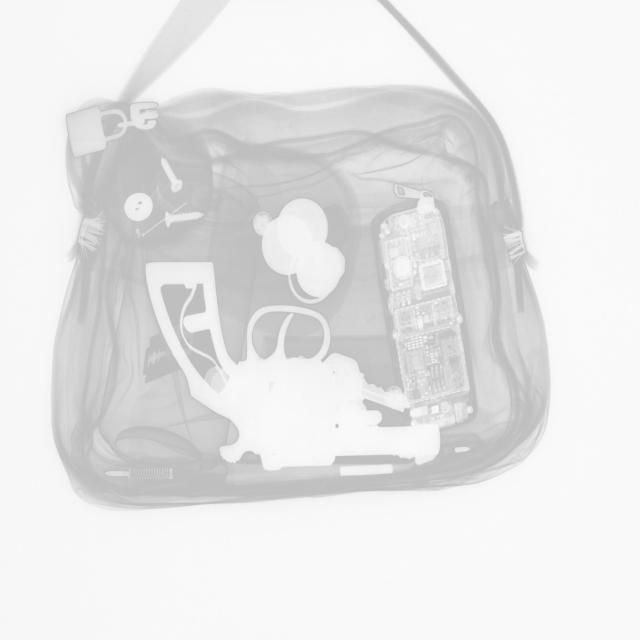pistol: (144, 258, 442, 470)
